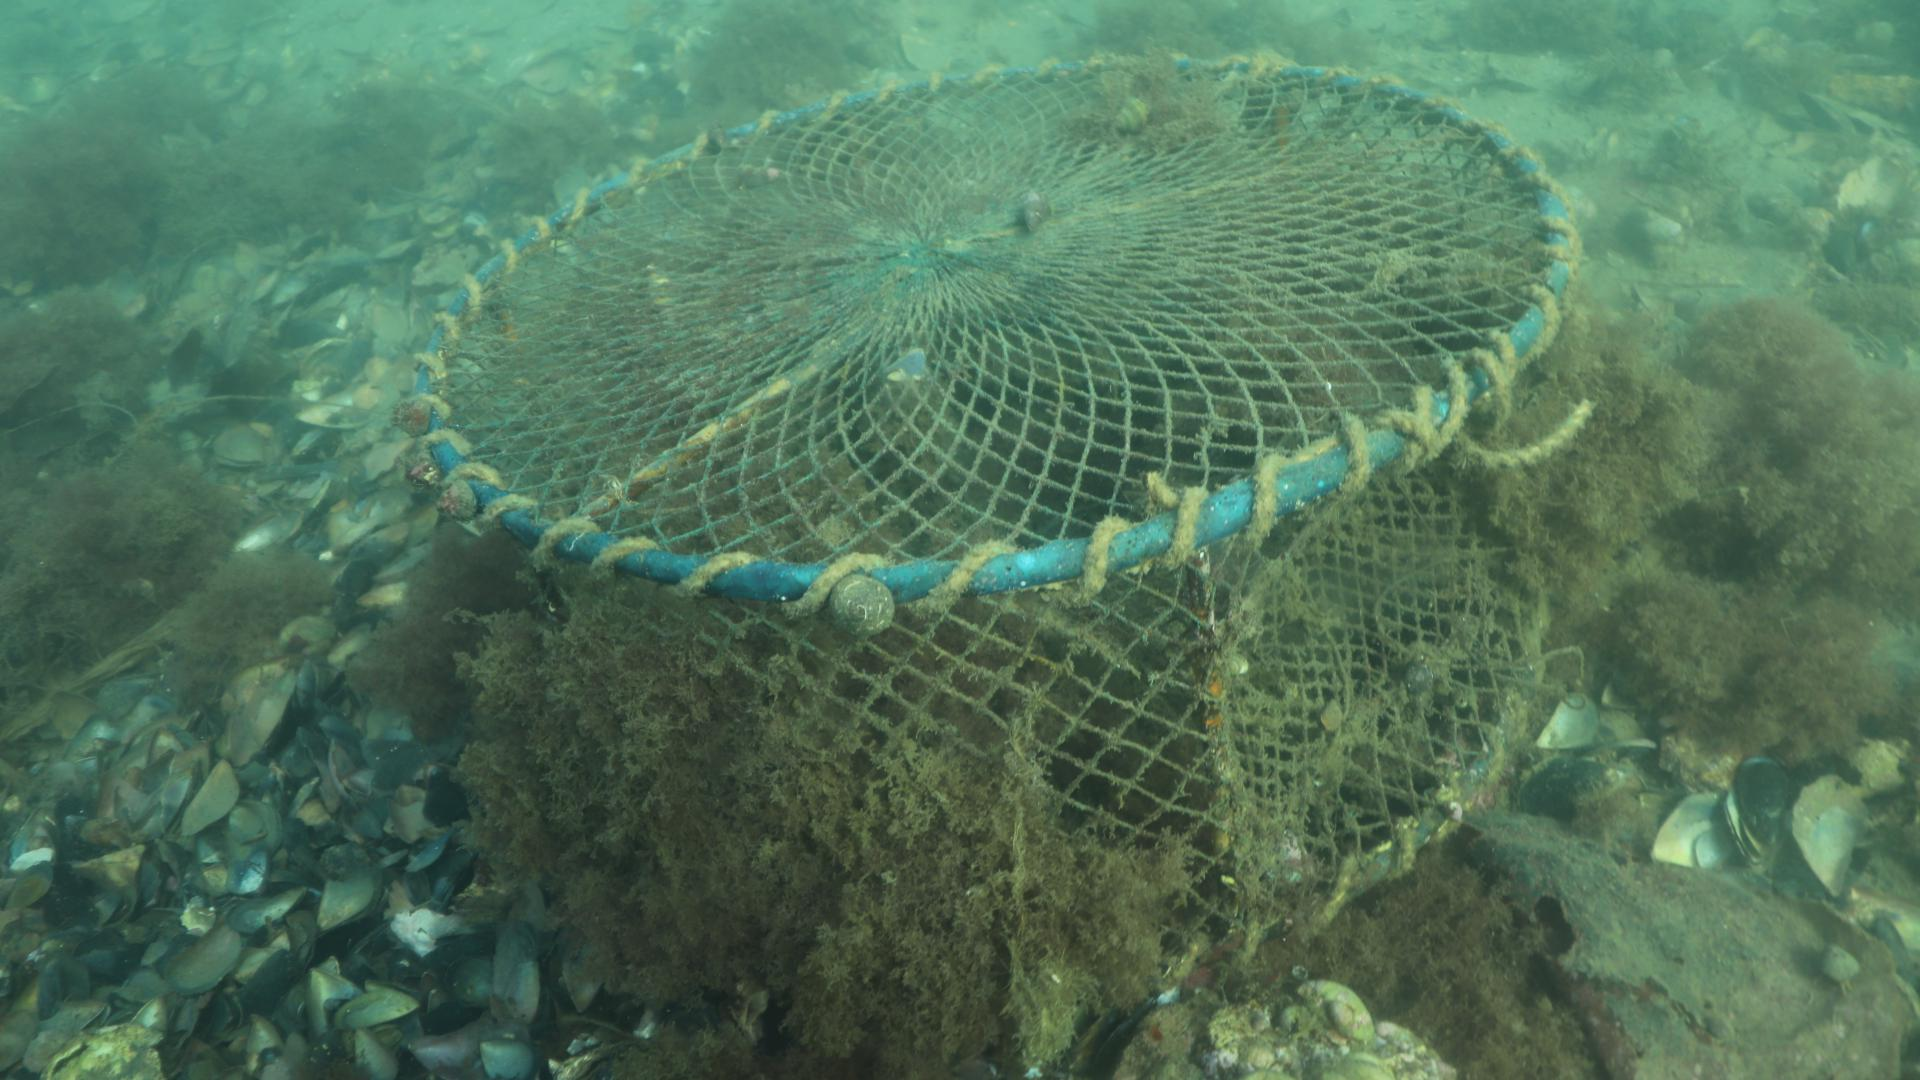circular fish trap: (407, 47, 1578, 977)
